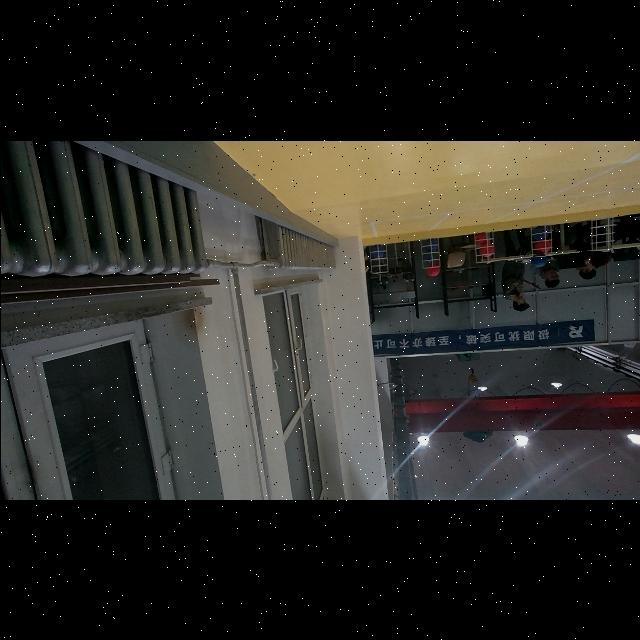S: (588, 217, 616, 249), (527, 224, 553, 258), (473, 228, 495, 262), (424, 238, 442, 266), (374, 247, 391, 275)
